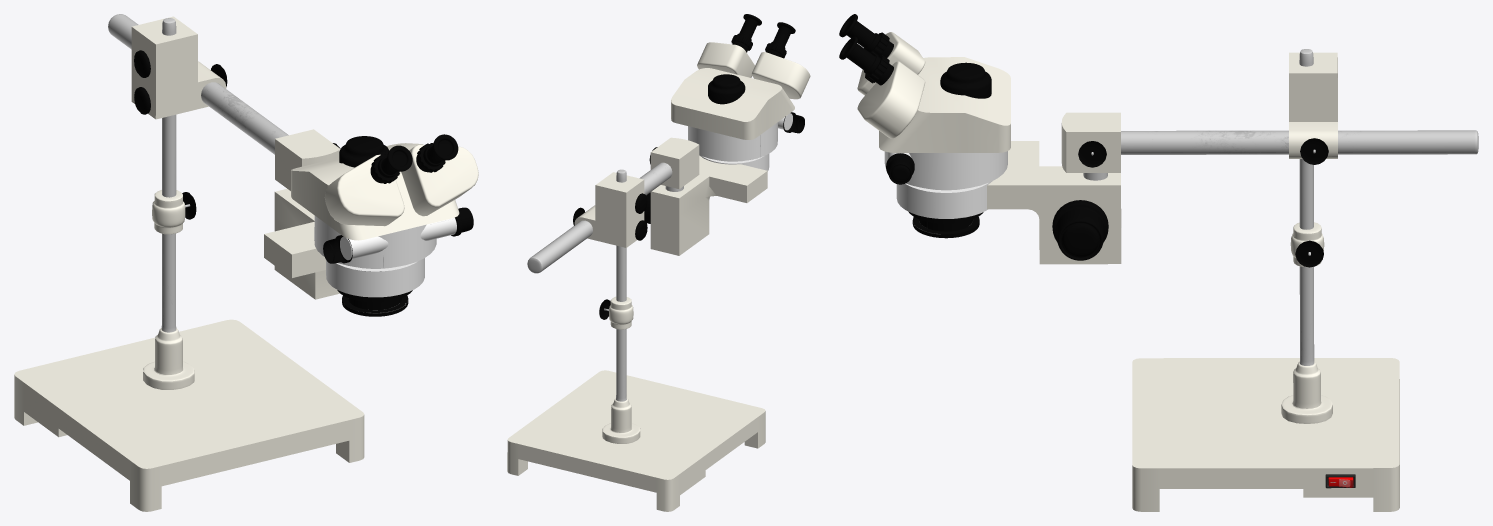
Rendered from Mikroskop Stereo.fbx.
3 renders of one model, left to right at view 1: azimuth 30°, elevation 25°; view 2: azimuth 150°, elevation 25°; view 3: azimuth 270°, elevation 25°, orthographic. The views are drawn at different scales.
Visible parts, largest first — view 1: Stage, Badan mikroskop stereo, Lengan mikroskop stereo, Lensa Objektif, Diopter 1, Eyepieces 1; view 2: Badan mikroskop stereo, Stage, Lengan mikroskop stereo, Diopter 1, Eyepieces 1; view 3: Stage, Badan mikroskop stereo, Lengan mikroskop stereo, Tombol fokus, Lensa Objektif, Diopter 1, Eyepieces 1, Tombol zoom.
Boxes of the visible parts, x1=… form: Stage: x1=14, y1=319, x2=364, y2=511; Badan mikroskop stereo: x1=264, y1=129, x2=478, y2=299; Lengan mikroskop stereo: x1=108, y1=14, x2=288, y2=389; Lensa Objektif: x1=337, y1=290, x2=412, y2=316; Diopter 1: x1=416, y1=134, x2=458, y2=172; Eyepieces 1: x1=370, y1=145, x2=412, y2=183; Badan mikroskop stereo: x1=650, y1=42, x2=810, y2=255; Stage: x1=507, y1=370, x2=765, y2=511; Lengan mikroskop stereo: x1=527, y1=162, x2=672, y2=443; Diopter 1: x1=732, y1=14, x2=761, y2=52; Eyepieces 1: x1=766, y1=22, x2=795, y2=57; Stage: x1=1132, y1=358, x2=1399, y2=511; Badan mikroskop stereo: x1=857, y1=32, x2=1121, y2=264; Lengan mikroskop stereo: x1=1121, y1=49, x2=1478, y2=423; Tombol fokus: x1=1052, y1=200, x2=1108, y2=260; Lensa Objektif: x1=908, y1=211, x2=983, y2=238; Diopter 1: x1=839, y1=36, x2=893, y2=85; Eyepieces 1: x1=839, y1=14, x2=893, y2=57; Tombol zoom: x1=886, y1=153, x2=914, y2=184.
Bounding box in the file's own units: 0.3209 × 0.5818 × 0.7609.
Materials: 6 (5 with a texture image).
